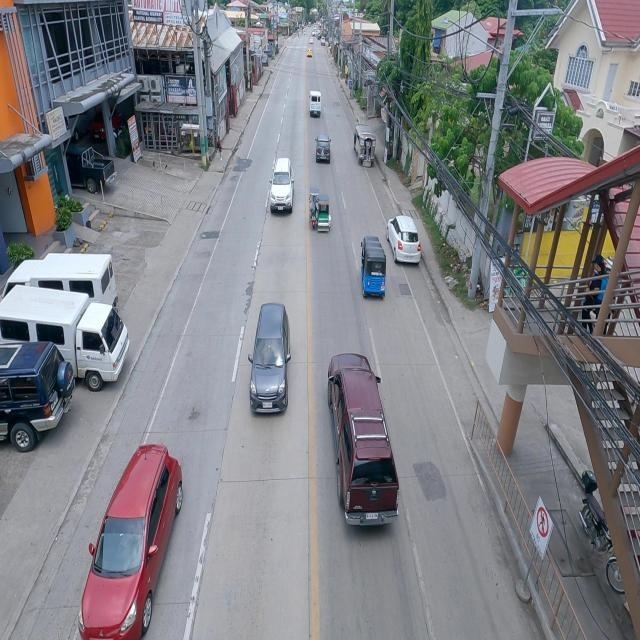Van: (327, 349, 401, 532)
